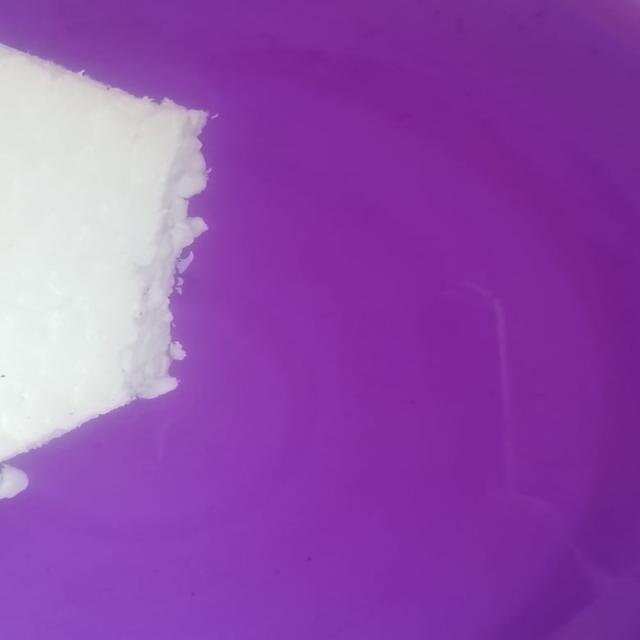thermocoal: (0, 21, 227, 527)
